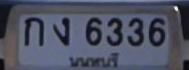3: (126, 17, 143, 45), (106, 17, 122, 45)
6: (85, 16, 101, 45), (148, 17, 164, 45)
A01: (23, 16, 43, 45)
A07: (52, 15, 69, 44)
NBI: (66, 51, 120, 68)
